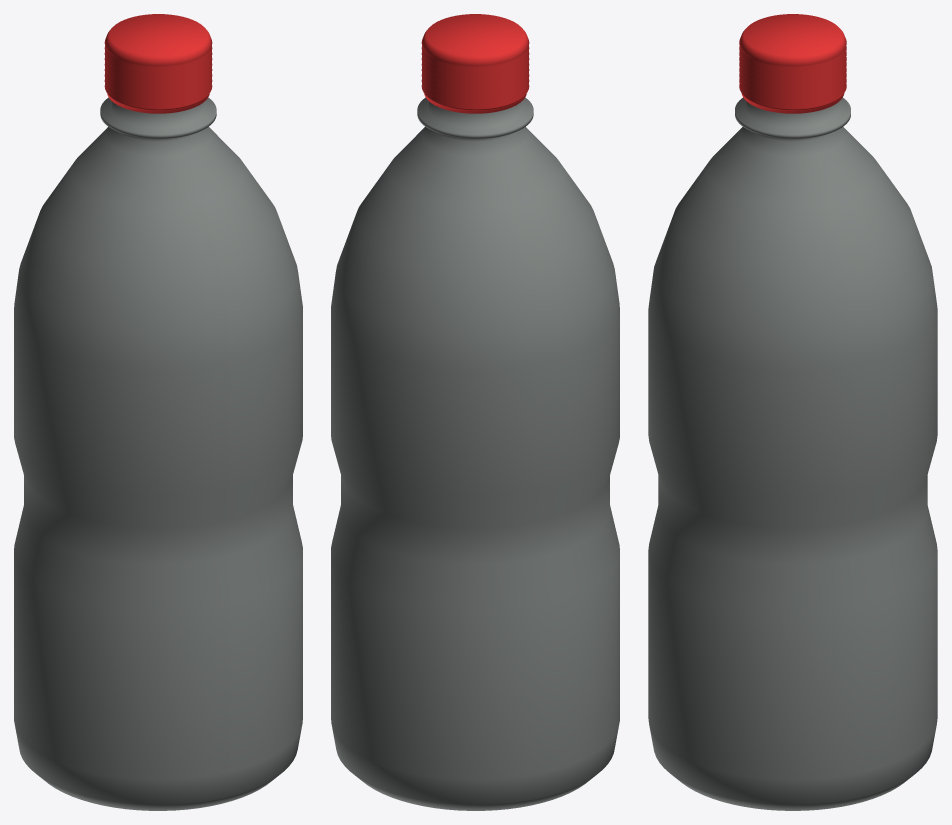
File: chorume_21_03_web.glb
The picture shows the model from 3 angles, left to right: view 1: azimuth 30°, elevation 25°; view 2: azimuth 150°, elevation 25°; view 3: azimuth 270°, elevation 25°; orthographic projection.
Visible parts, largest first — view 1: Garrafa_PET; view 2: Garrafa_PET; view 3: Garrafa_PET.
Boxes of the visible parts, x1,y1,x2,y2 form: Garrafa_PET: [14, 14, 302, 810]; Garrafa_PET: [331, 14, 619, 810]; Garrafa_PET: [648, 14, 937, 810].
Bounding box in the file's own units: 0.087 × 0.241 × 0.087.
